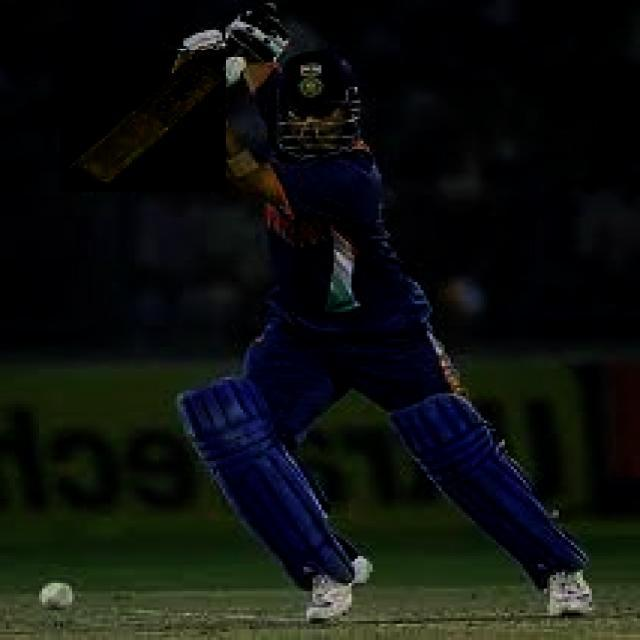bat: (47, 68, 221, 214)
toe: (48, 174, 89, 212)
